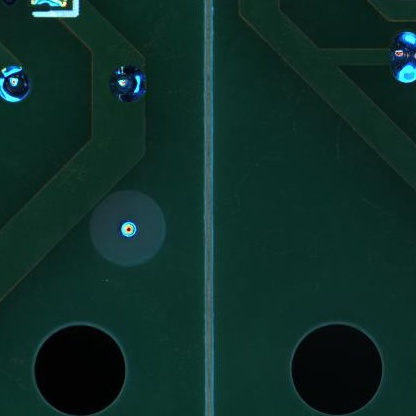spot: (110, 64, 146, 104), (390, 28, 414, 84), (1, 64, 33, 105)
